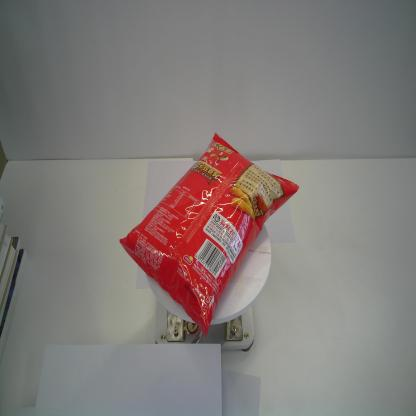Puffed Food: (119, 131, 300, 337)
